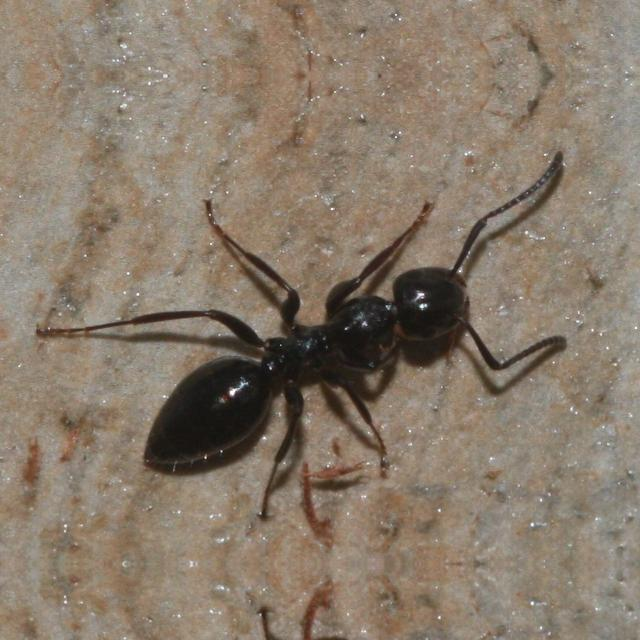Colobopsis: (92, 210, 538, 500)
